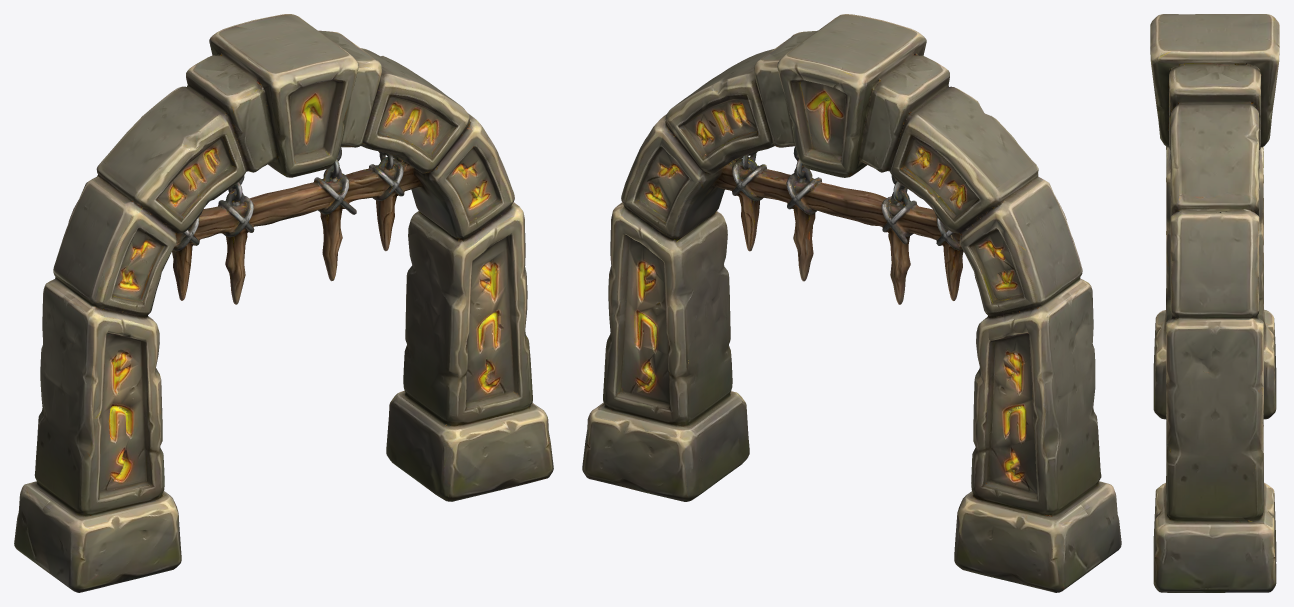
Rendered from obs-gate.glb.
3 renders of one model, left to right at view 1: azimuth 30°, elevation 25°; view 2: azimuth 150°, elevation 25°; view 3: azimuth 270°, elevation 25°, orthographic. The views are drawn at different scales.
Parts seen in each view (by area): view 1: Mesh_0; view 2: Mesh_0; view 3: Mesh_0.
Part boxes in pixels (x1,y1,x2,y2): Mesh_0: (14, 14, 553, 592); Mesh_0: (582, 14, 1121, 592); Mesh_0: (1150, 14, 1279, 592).
Bounding box in the file's own units: 1.9 × 1.78 × 0.4602.
Materials: 1 (1 with a texture image).
